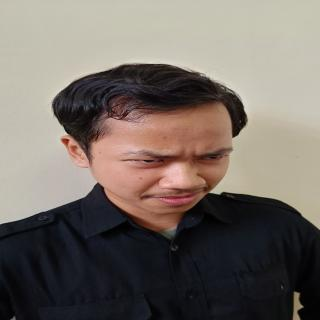Marah: (82, 93, 242, 217)
